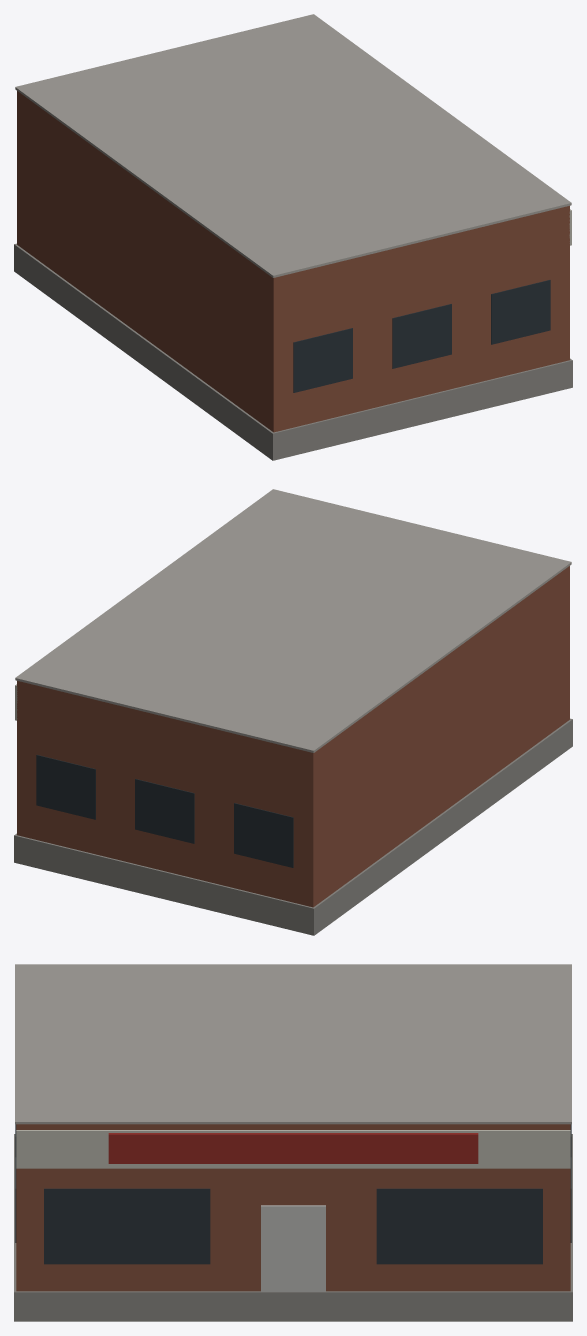
The model's file is SM_Prop_cafe_building_8_LOD2.glb.
The picture shows the model from 3 angles, top to bottom: view 1: azimuth 30°, elevation 25°; view 2: azimuth 150°, elevation 25°; view 3: azimuth 270°, elevation 25°; orthographic projection. The views are drawn at different scales.
Parts seen in each view (by area): view 1: SM_Prop_cafe_building_8_LOD2; view 2: SM_Prop_cafe_building_8_LOD2; view 3: SM_Prop_cafe_building_8_LOD2.
Part boxes in pixels (left/top/right/bottom): SM_Prop_cafe_building_8_LOD2: left=14, top=14, right=572, bottom=460; SM_Prop_cafe_building_8_LOD2: left=14, top=489, right=572, bottom=935; SM_Prop_cafe_building_8_LOD2: left=14, top=964, right=572, bottom=1321.
Size of the model in its own units: 8.18 by 4.76 by 12.1.
